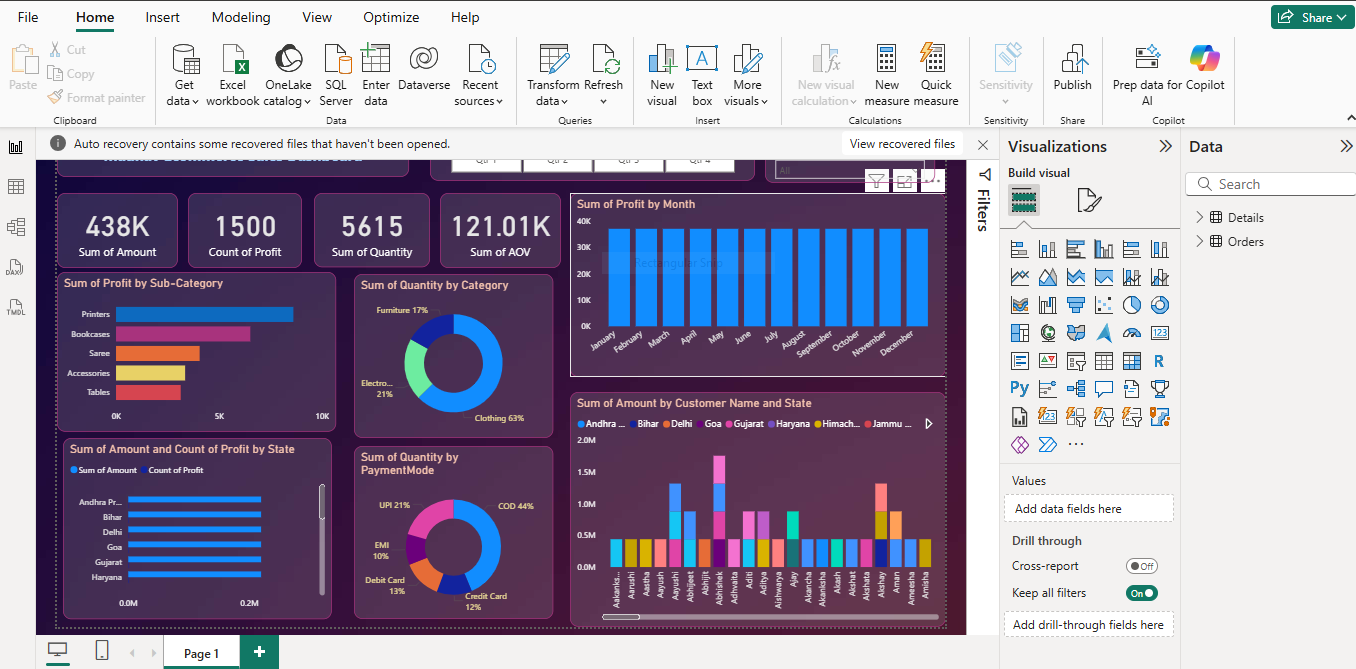

What the dashboard file says about the page in this screenshot:
{"tool":"powerbi","page":{"name":"Page 1","canvas":[1280,720],"ordinal":0},"visuals":[{"type":"textbox","box":[0,15.8,506.9,56.2],"z":0},{"type":"columnChart","fields":{"Y":["Details.Profit"],"Category":["Orders.Order Date.Variation.Date Hierarchy.Month"]},"box":[738.7,95,541.4,265],"z":1000},{"type":"donutChart","fields":{"Category":["Details.Category"],"Y":["Details.Quantity"]},"box":[427.7,211.7,286.6,236.2],"z":2000},{"type":"donutChart","fields":{"Y":["Details.Quantity"],"Series":["Details.PaymentMode"]},"box":[427.7,459.4,286.6,249.1],"z":3000},{"type":"card","fields":{"Values":["Details.Amount"]},"box":[0,95,174.2,108],"z":4000},{"type":"card","fields":{"Values":["Details.AOV"]},"box":[551.5,95,174.2,108],"z":5000},{"type":"card","fields":{"Values":["Details.Quantity"]},"box":[370.1,95,167,106.6],"z":6000},{"type":"columnChart","fields":{"Category":["Orders.Customer Name"],"Y":["Details.Amount"],"Series":["Orders.State"]},"box":[738.7,381.6,541.4,338.4],"z":7000},{"type":"clusteredBarChart","fields":{"Category":["Orders.State"],"Y":["Details.Amount","Details.Profit"]},"box":[8.6,447.8,387.4,260.6],"z":8000},{"type":"slicer","fields":{"Values":["Orders.Order Date.Variation.Date Hierarchy.Quarter"]},"box":[537.1,14.4,468,63.4],"z":9000},{"type":"clusteredBarChart","fields":{"Category":["Details.Sub-Category"],"Y":["Details.Profit"]},"box":[0,208.8,401.8,230.4],"z":10000},{"type":"slicer","fields":{"Values":["Orders.State"]},"box":[1019.5,14.4,244.8,66.2],"z":11000},{"type":"card","fields":{"Values":["Details.Profit"]},"box":[188.6,95,164.2,108],"z":12000}]}

Visuals, with their boxes on the page's 1280x720 design canvas (x1, y1, x2, y2). These are canvas units, not pixel positions in the 1356x669 screenshot, which may show the page scaled, cropped or inside an application window:
textbox: [x1=0, y1=16, x2=507, y2=72]
columnChart - Details.Profit x Orders.Order Date.Variation.Date Hierarchy.Month: [x1=739, y1=95, x2=1280, y2=360]
donutChart - Details.Category x Details.Quantity: [x1=428, y1=212, x2=714, y2=448]
donutChart - Details.Quantity x Details.PaymentMode: [x1=428, y1=459, x2=714, y2=708]
card - Details.Amount: [x1=0, y1=95, x2=174, y2=203]
card - Details.AOV: [x1=552, y1=95, x2=726, y2=203]
card - Details.Quantity: [x1=370, y1=95, x2=537, y2=202]
columnChart - Orders.Customer Name x Details.Amount: [x1=739, y1=382, x2=1280, y2=720]
clusteredBarChart - Orders.State x Details.Amount: [x1=9, y1=448, x2=396, y2=708]
slicer - Orders.Order Date.Variation.Date Hierarchy.Quarter: [x1=537, y1=14, x2=1005, y2=78]
clusteredBarChart - Details.Sub-Category x Details.Profit: [x1=0, y1=209, x2=402, y2=439]
slicer - Orders.State: [x1=1020, y1=14, x2=1264, y2=81]
card - Details.Profit: [x1=189, y1=95, x2=353, y2=203]
